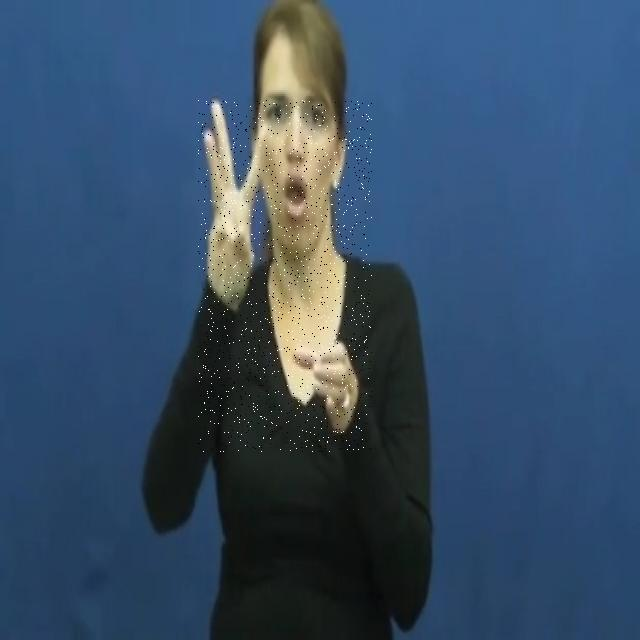straw: (198, 100, 372, 452)
